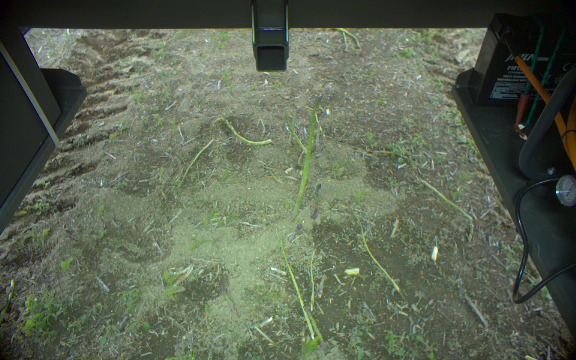aspa: (273, 229, 312, 340), (290, 95, 322, 219), (415, 175, 475, 240), (174, 139, 216, 185), (216, 116, 272, 145), (303, 303, 325, 350), (284, 116, 308, 155), (217, 283, 237, 318)
